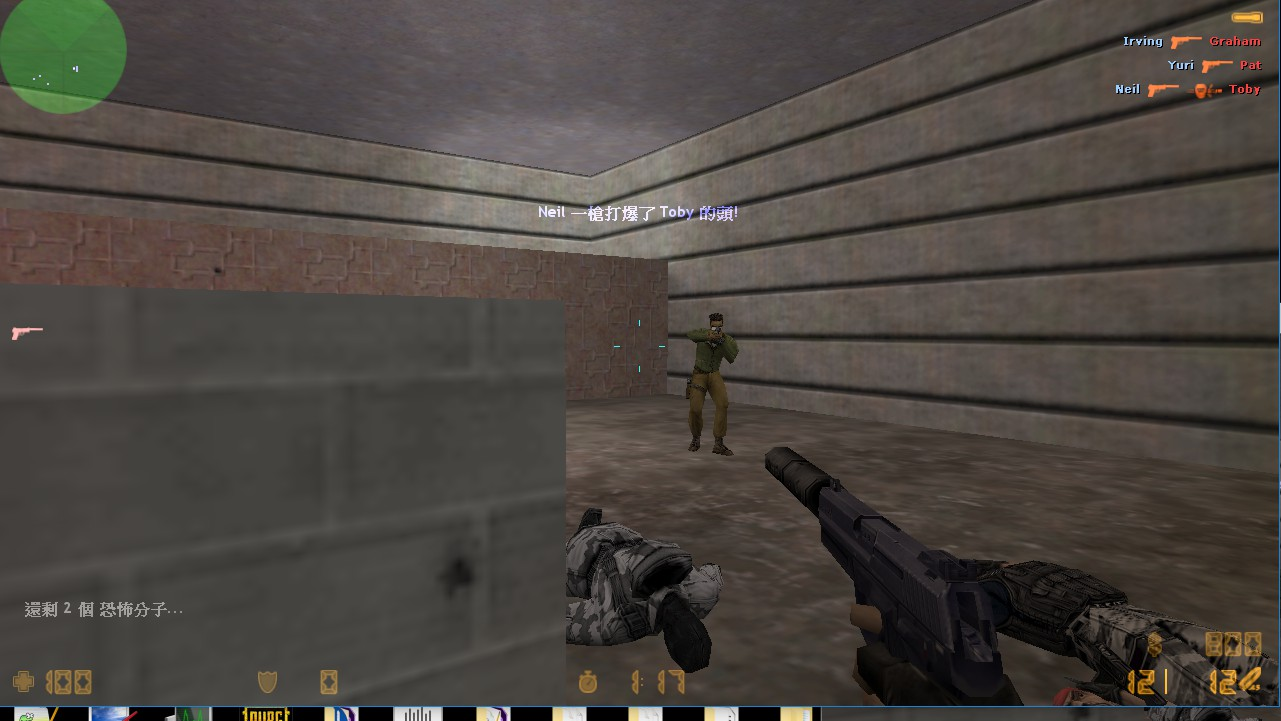person: (683, 308, 746, 457)
